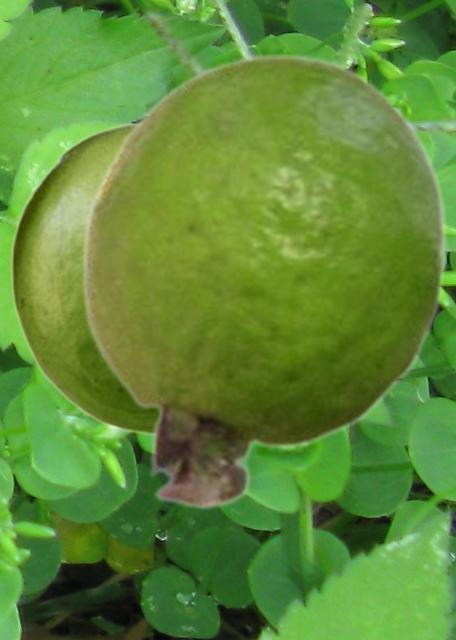guava: (81, 51, 448, 510), (9, 121, 156, 436)
